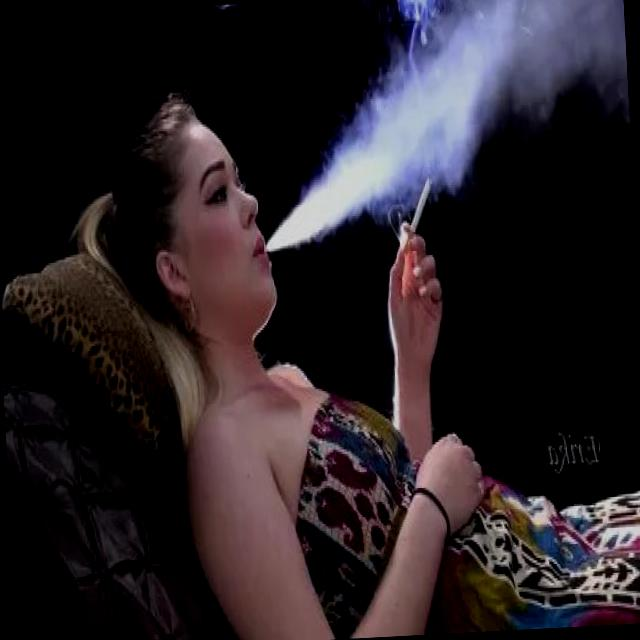smoke: (403, 169, 437, 237)
